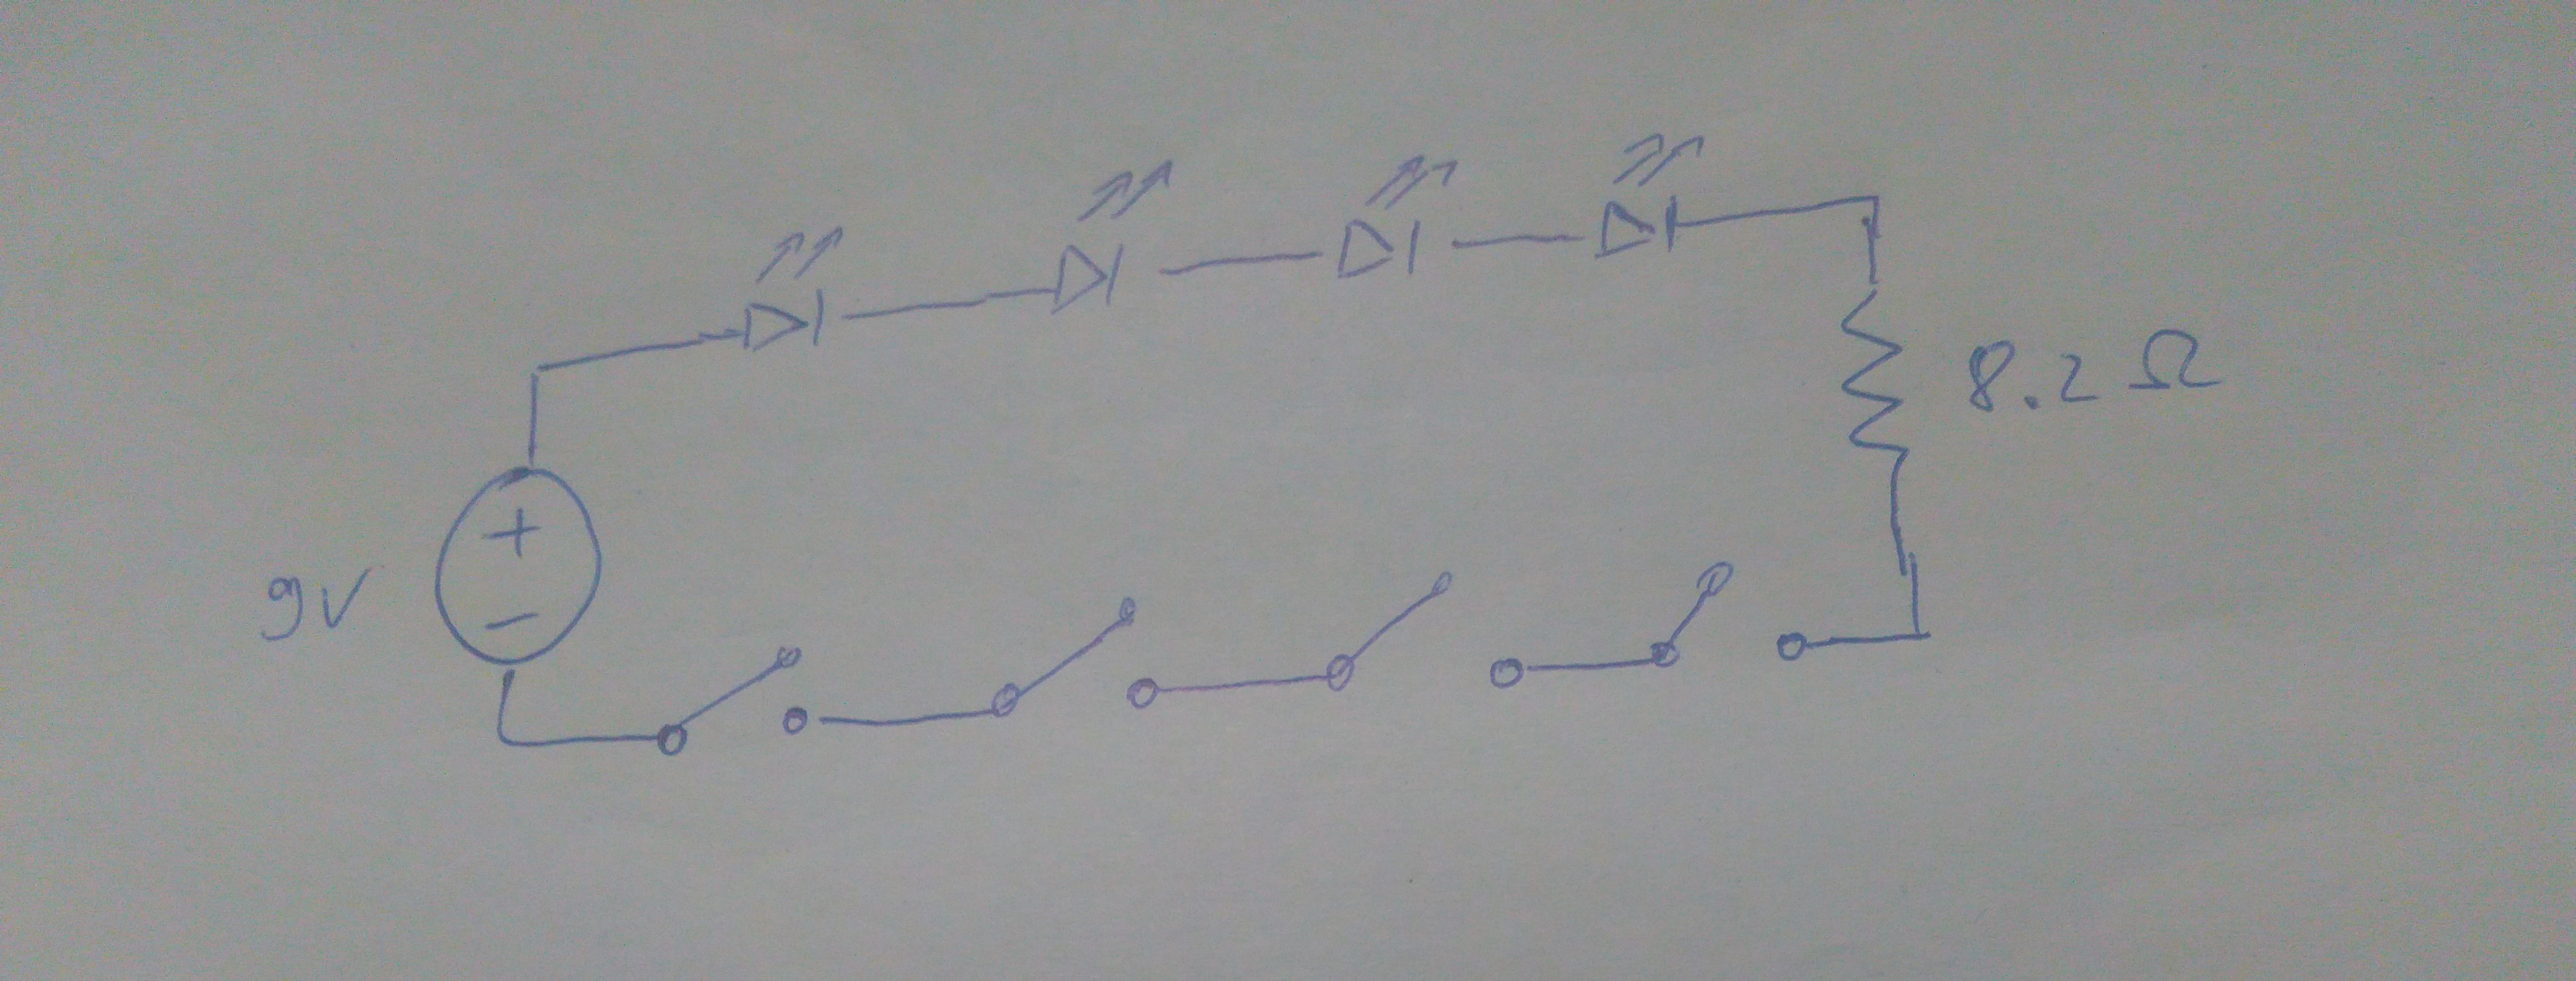diode.light_emitting: (1020, 141, 1207, 332), (1298, 138, 1480, 312), (701, 207, 884, 380), (1556, 118, 1738, 291)
junction: (1889, 608, 1952, 664), (511, 347, 563, 398), (476, 710, 531, 758), (1848, 179, 1896, 228)
resistor: (1810, 279, 1948, 498)
switch: (1316, 557, 1539, 710), (974, 582, 1191, 730), (641, 626, 835, 769), (1633, 547, 1827, 689)
text: (1953, 315, 2241, 421), (228, 554, 396, 654)
voltage.dc: (409, 452, 619, 687)
